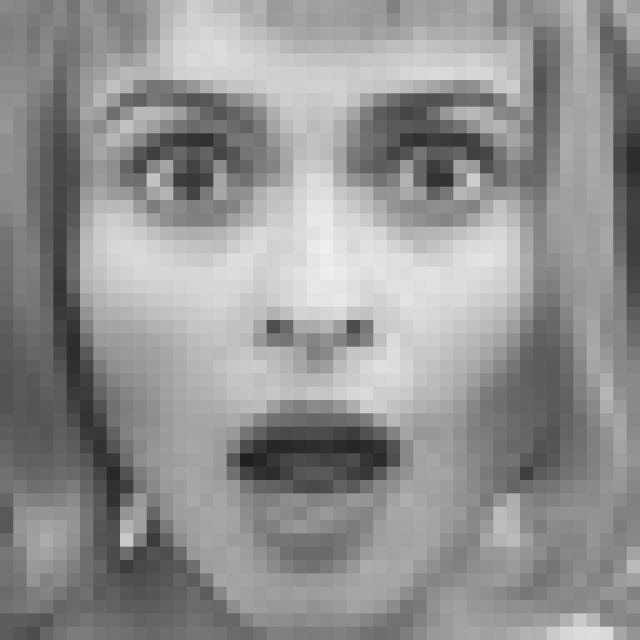surprise: (70, 75, 537, 563)
